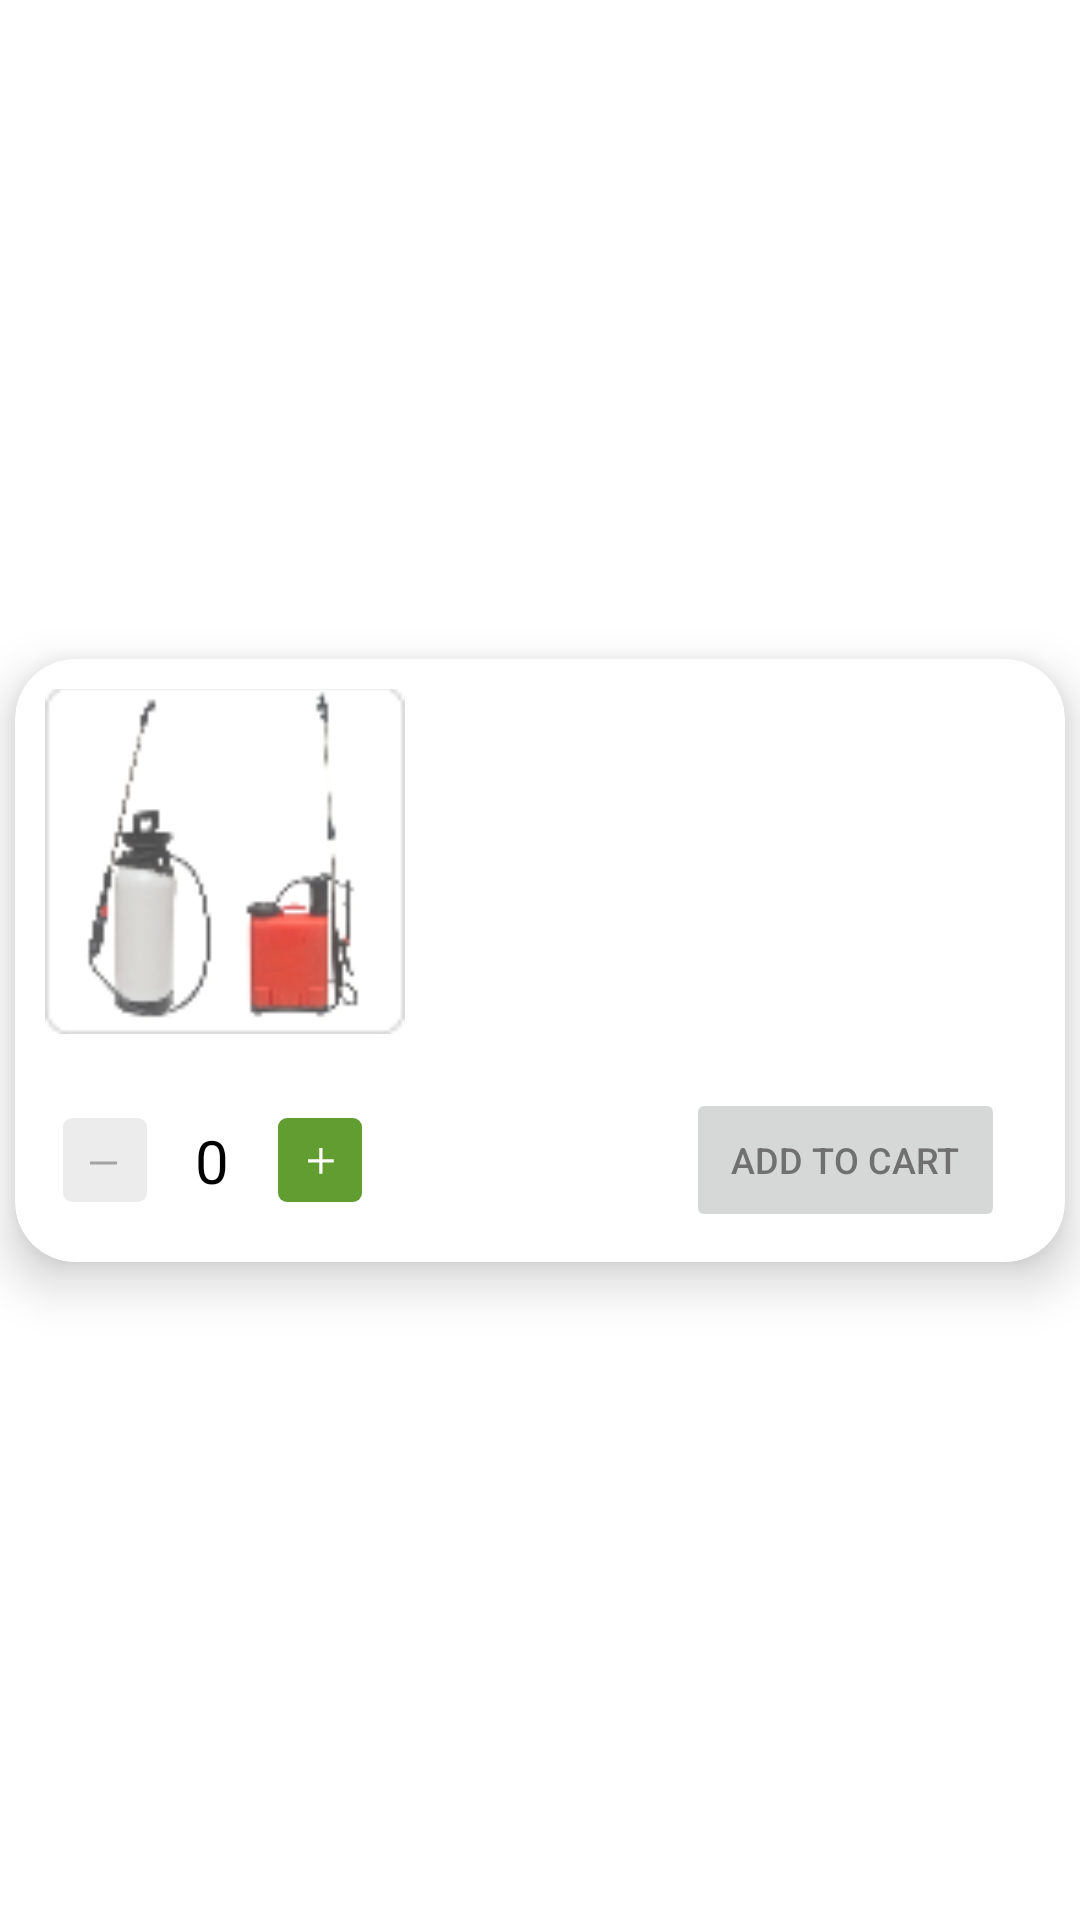

Icon click points for this 1080*1920 phone screenshot, format (x,y):
pesticide: (225,862)
plus: (320,1160)
